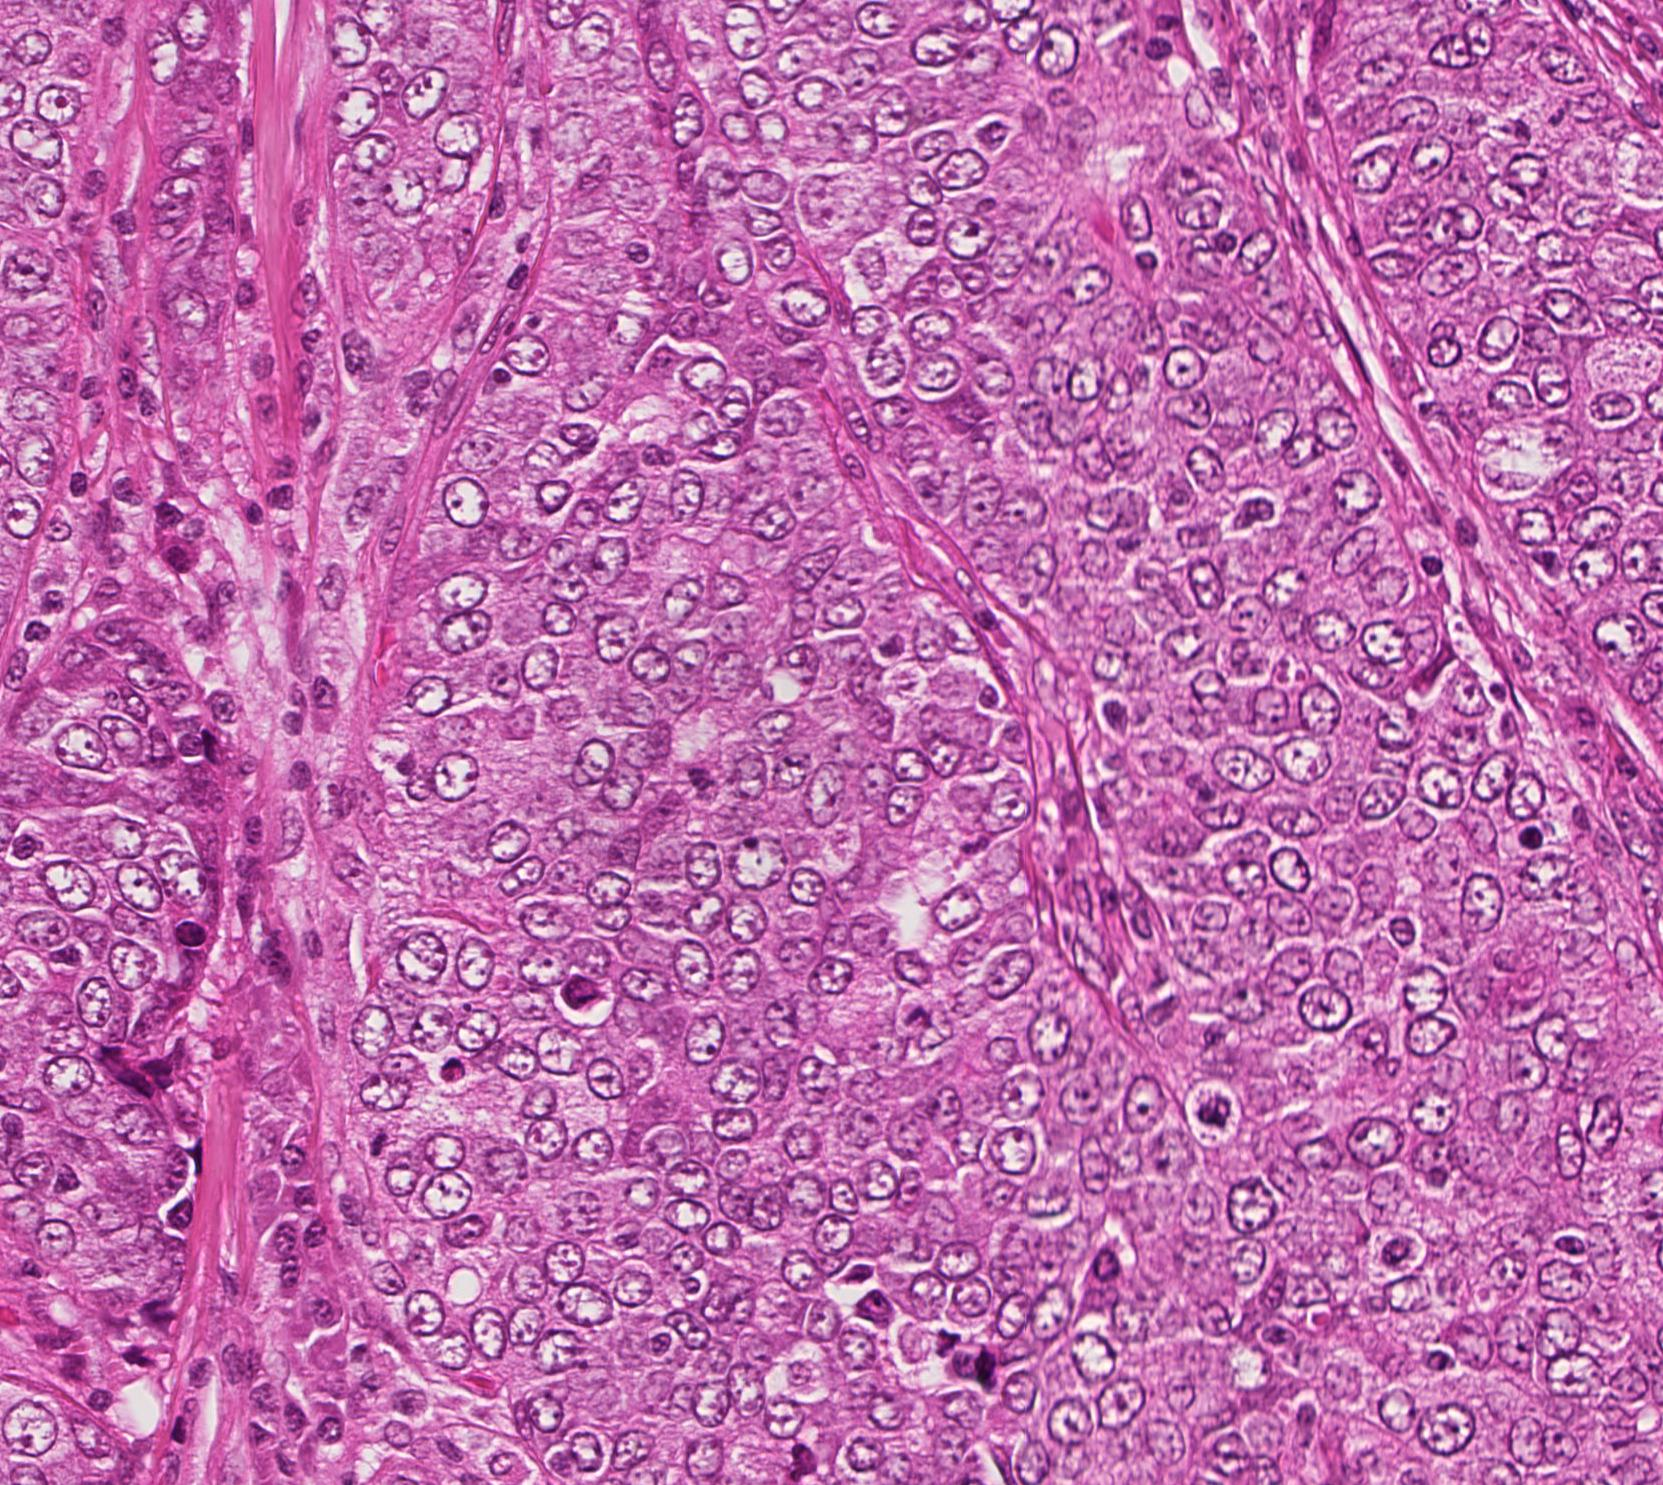mitosis: (1510, 95, 1570, 153)
